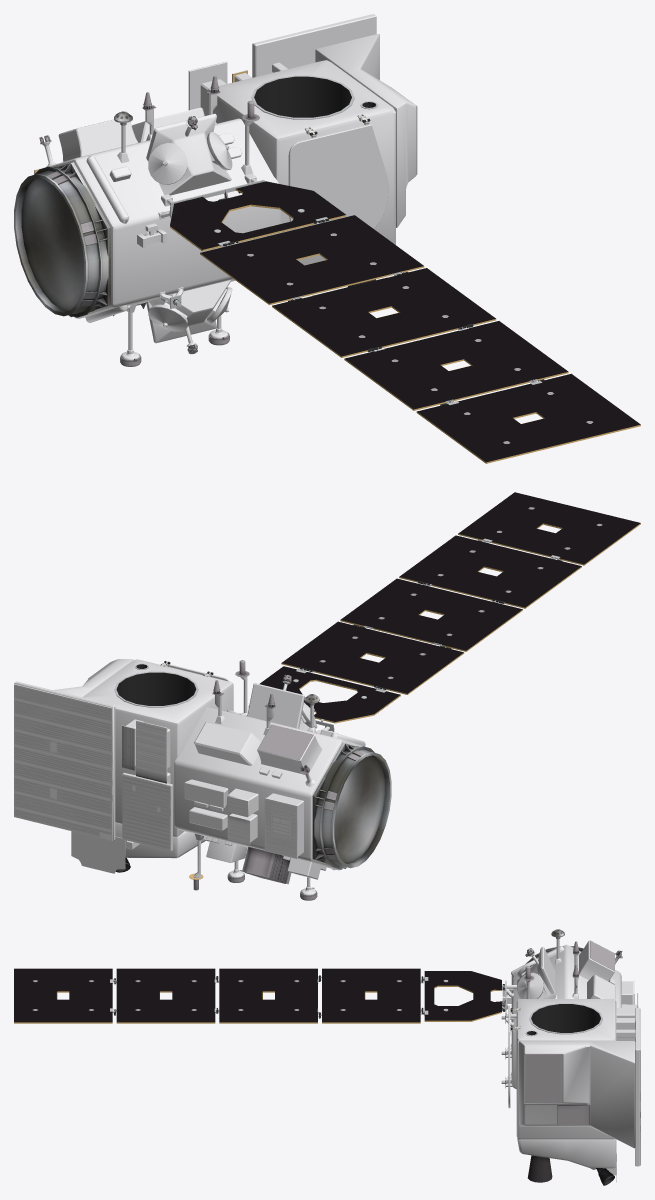
Rendered from icesat-2.glb.
3 views of the same model, one above another, from view 1: azimuth 30°, elevation 25°; view 2: azimuth 150°, elevation 25°; view 3: azimuth 270°, elevation 25° (orthographic). The views are drawn at different scales.
Visible parts, largest first — view 1: instruments, Atlas scope; view 2: instruments, Atlas scope; view 3: instruments, Atlas scope.
Part boxes in pixels (x1=…): instruments: x1=14, y1=14, x2=640, y2=463; Atlas scope: x1=36, y1=14, x2=544, y2=405; instruments: x1=14, y1=492, x2=640, y2=900; Atlas scope: x1=14, y1=538, x2=561, y2=895; instruments: x1=14, y1=929, x2=640, y2=1185; Atlas scope: x1=110, y1=939, x2=639, y2=1181.
Bounding box in the file's own units: 3.63 × 2.32 × 7.34.
7 materials, 1 textured.
